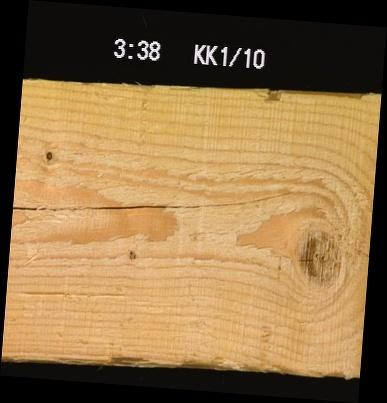dry_knot: (43, 149, 52, 160)
small_knot: (126, 248, 136, 261)
sound_knot: (297, 233, 344, 284)
split: (13, 177, 294, 221)
wave: (56, 350, 359, 374)
